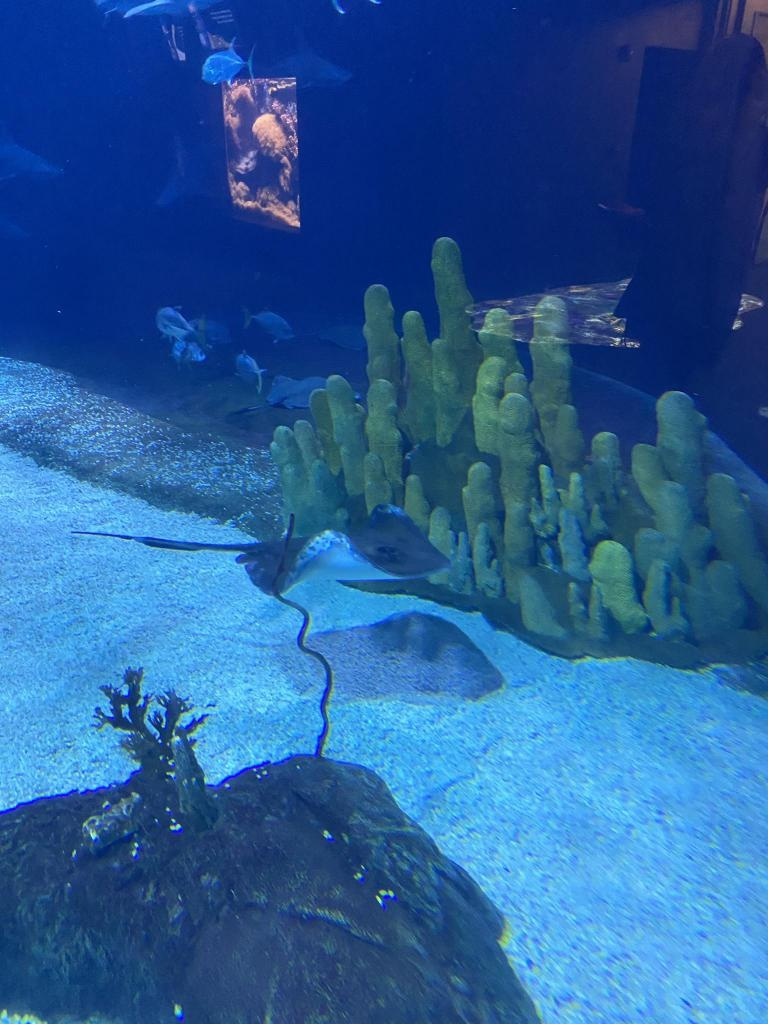fish: (196, 44, 260, 90), (150, 306, 200, 344), (242, 313, 290, 341), (232, 358, 270, 392)
stingray: (235, 506, 435, 598)
